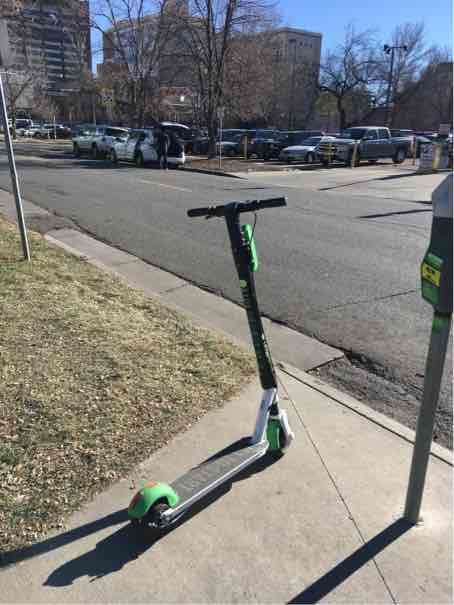scooter: (104, 190, 324, 560)
